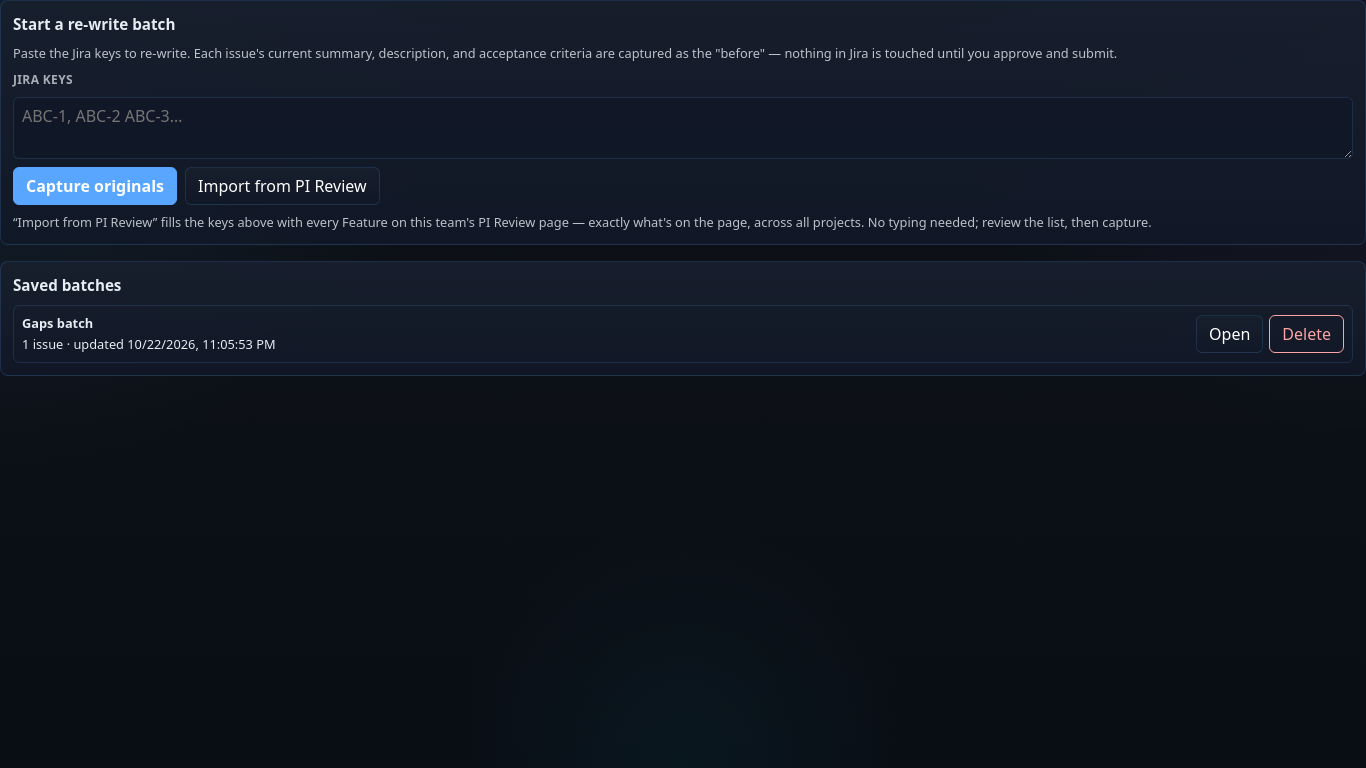
Test: BulkRewriteTab SharePoint library browsing › says what it could not read and what it did not look in
Click the button "Open".
click(1230, 334)  # box [1196,315,1263,353]
(page scrolled)
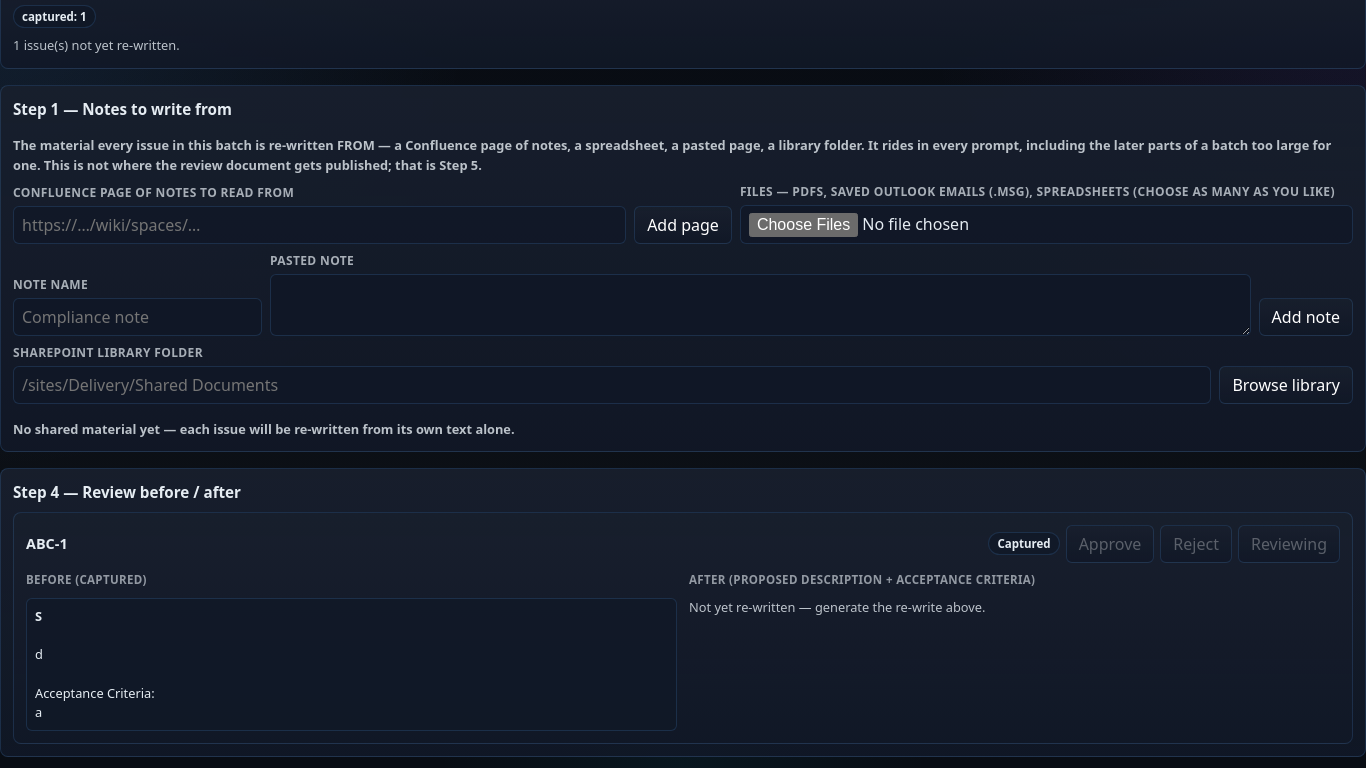
Type "/sites/D/Docs" into the field labelled "SharePoint library folder".
click(612, 385); type("/sites/D/Docs")  # box [13,366,1211,404]
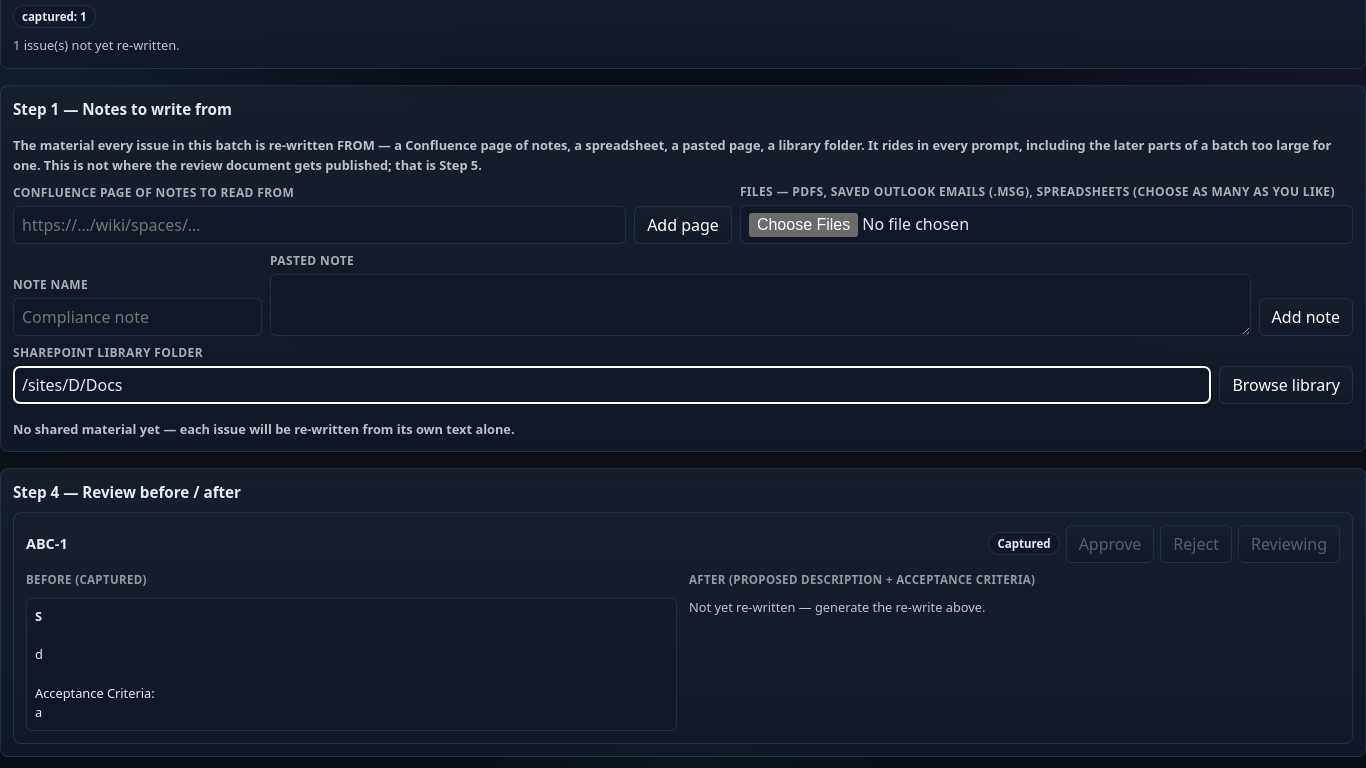
Click the button "Browse library".
click(1286, 385)  # box [1219,366,1353,404]
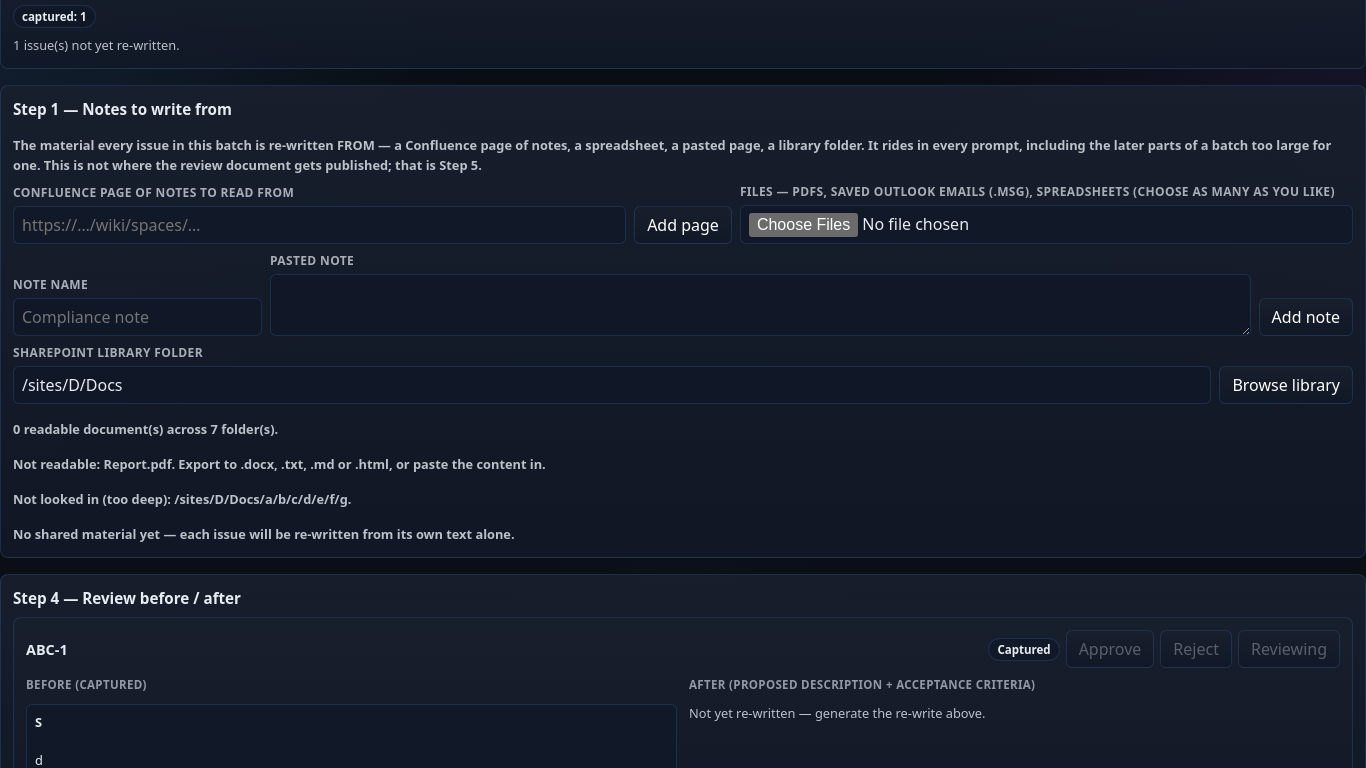
expect the text "Not readable: Report.pdf" is shown: met, box [13,455,546,473]
expect the text "Not looked in (too deep): /sites/D/Docs/a/b/c/d/e/f/g." is shown: met, box [13,490,351,508]
